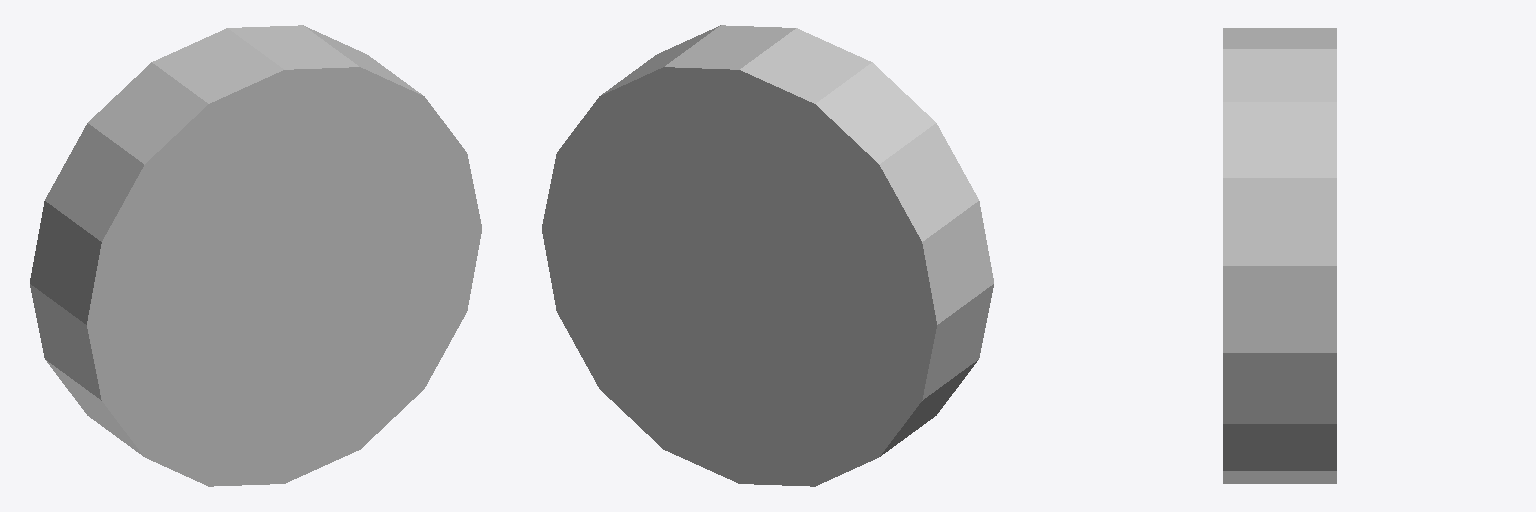
Rendered from draught.obj.
3 views of the same model, side by side, from view 1: azimuth 30°, elevation 25°; view 2: azimuth 150°, elevation 25°; view 3: azimuth 270°, elevation 25° (orthographic).
Parts seen in each view (by area): view 1: Cylinder; view 2: Cylinder; view 3: Cylinder.
Part boxes in pixels (left/top/right/bottom): Cylinder: left=30, top=25, right=481, bottom=486; Cylinder: left=542, top=25, right=993, bottom=486; Cylinder: left=1223, top=28, right=1336, bottom=483.
Bounding box in the file's own units: 0.02 × 0.02 × 0.005.